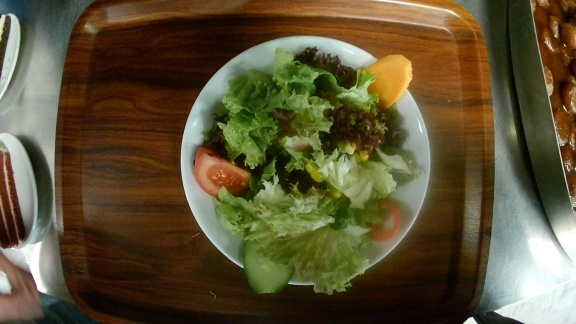salata: (179, 34, 431, 287)
